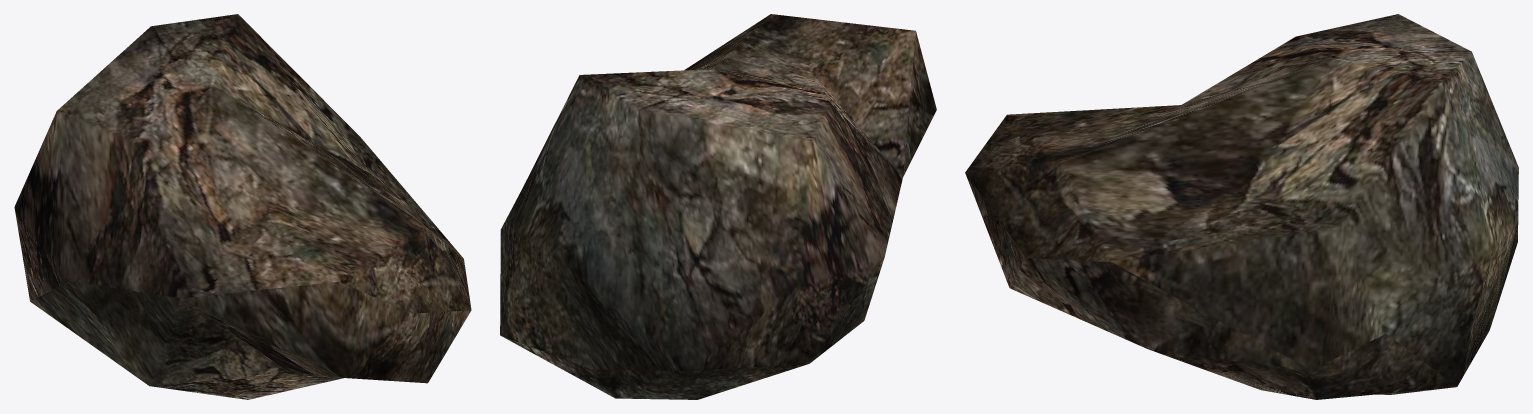
3 renders of one model, left to right at view 1: azimuth 30°, elevation 25°; view 2: azimuth 150°, elevation 25°; view 3: azimuth 270°, elevation 25°, orthographic. The views are drawn at different scales.
Parts seen in each view (by area): view 1: model_Object51; view 2: model_Object51; view 3: model_Object51.
Part boxes in pixels (<box>): model_Object51: <box>14,14,471,399</box>; model_Object51: <box>500,14,936,399</box>; model_Object51: <box>965,14,1518,399</box>.
Bounding box in the file's own units: 2.55 × 2.21 × 3.46.
1 material, 1 textured.
